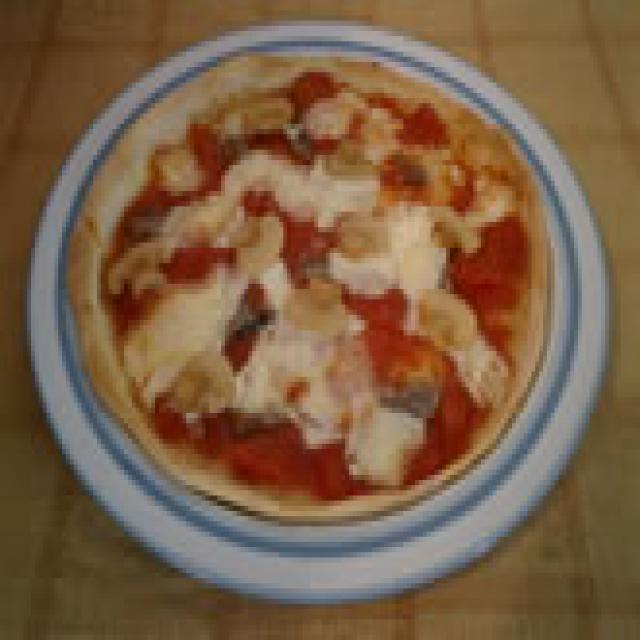汉堡快餐: (19, 5, 605, 604)
